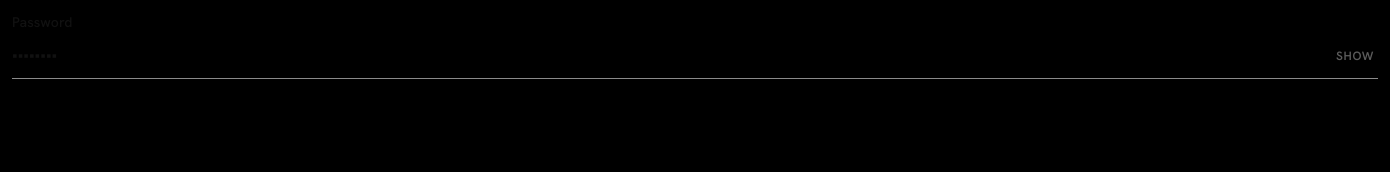
Test: Field › toggles password visibility
The image size is (1390, 172).
Click the button with aria-label "Show password" at [1355, 56], box [1332,48,1378,64]
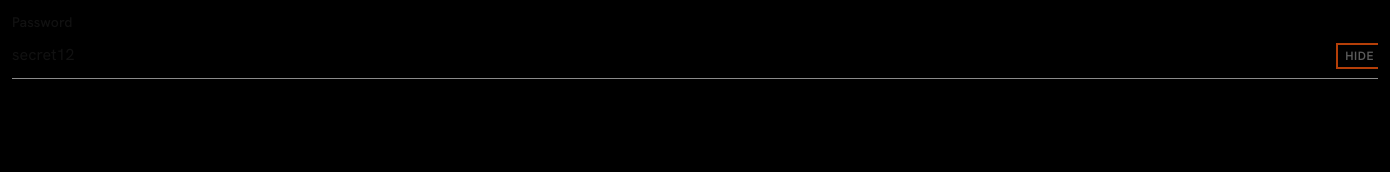
Check: the field labelled "Password" shows its text, box [12,32,1378,79]
Click the button with aria-label "Hide password" at [1360, 56], box [1341,48,1378,64]
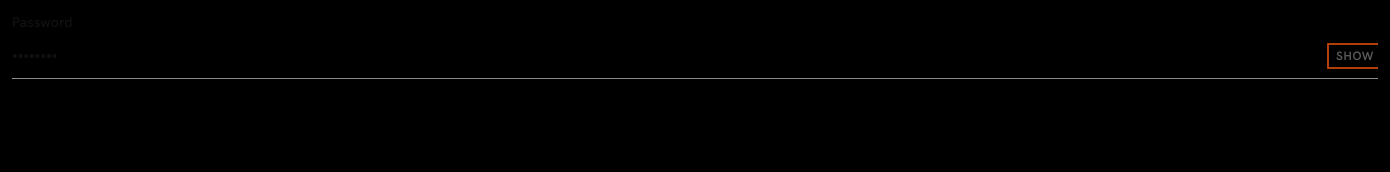
Check: the password field labelled "Password" hides its text, box [12,32,1378,79]
